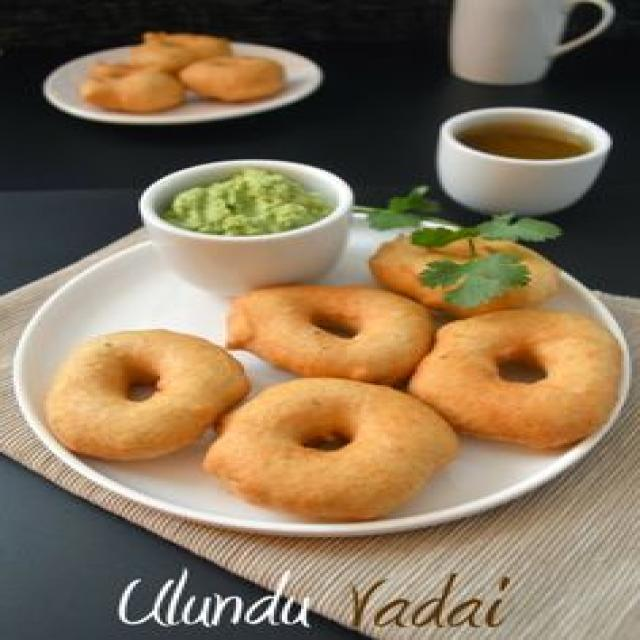MEDU VADA: (197, 376, 447, 510), (414, 306, 637, 445), (44, 324, 248, 463), (221, 280, 438, 384), (362, 223, 566, 303)
